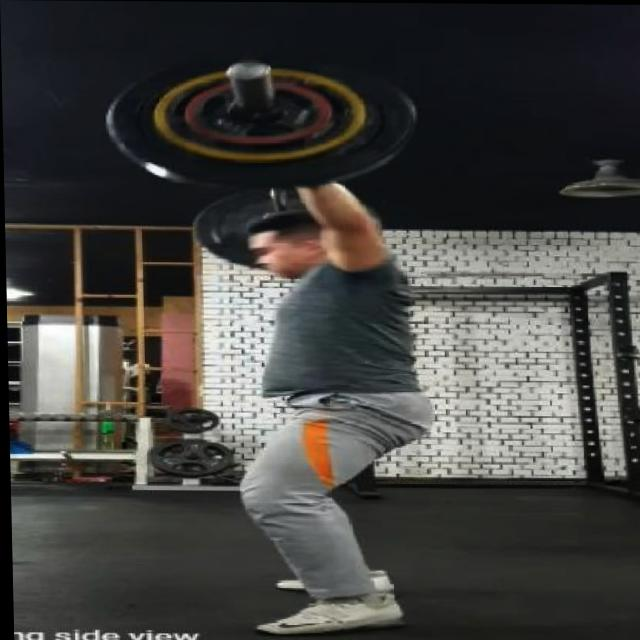barbell: (97, 55, 424, 193)
